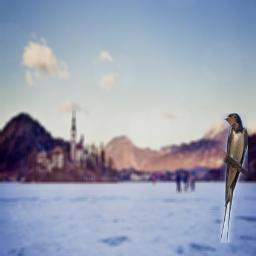Swallow: (220, 113, 248, 243)
